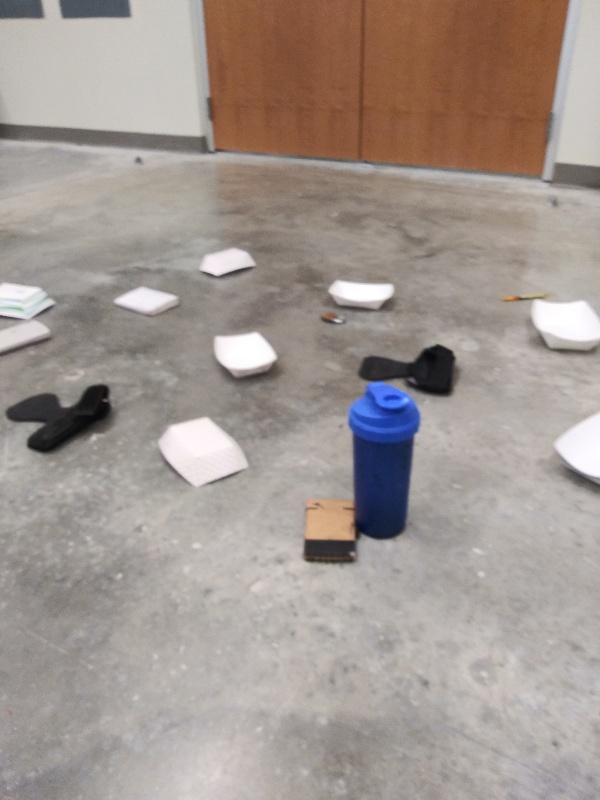plate: (152, 416, 255, 492), (525, 295, 600, 356), (551, 408, 600, 496), (209, 328, 282, 383), (325, 275, 400, 314), (1, 277, 60, 324), (196, 244, 265, 279)
